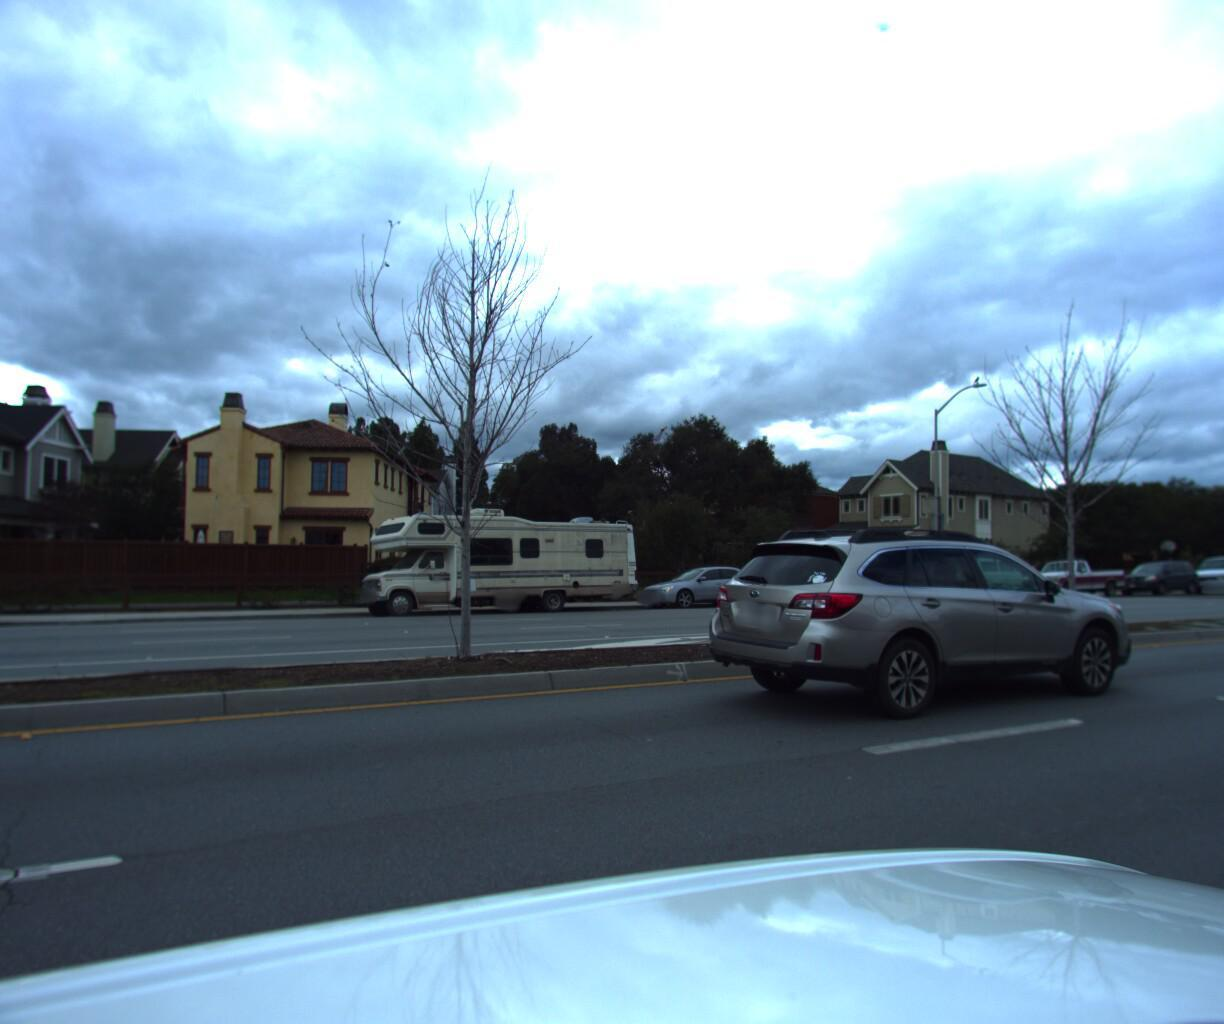car: (687, 516, 1149, 733), (622, 568, 771, 616), (909, 557, 1024, 605), (1004, 556, 1123, 602), (1104, 563, 1199, 604), (1173, 556, 1224, 598)
other_vehicle: (341, 502, 642, 624)
